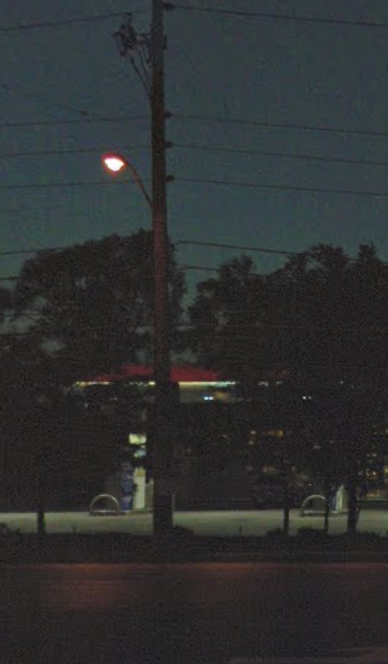HPS: (98, 150, 137, 185)
